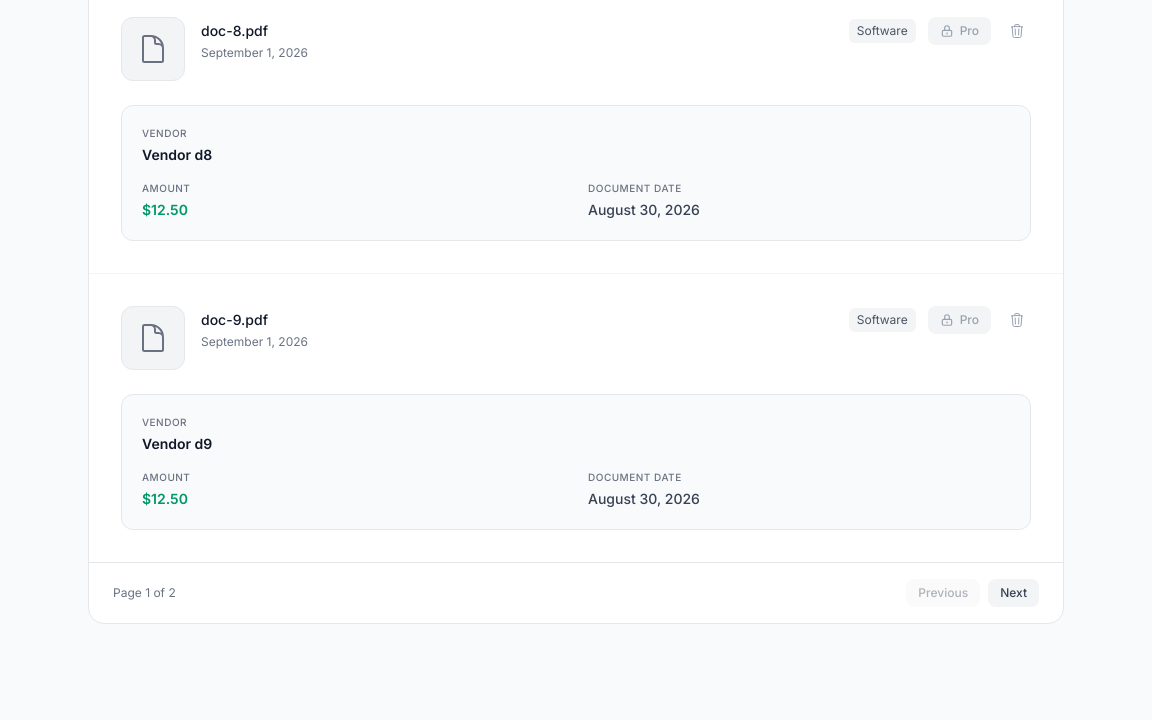
dashboard › paginates completed documents ten at a time
(page scrolled)
Expected: the text "Page 1 of 2" is shown, [113, 585, 176, 601]
Expected: the button "Previous" is disabled, [906, 579, 980, 607]
Step 1. Click the button "Next" → (1014, 593), box [988, 579, 1039, 607]
(page scrolled)
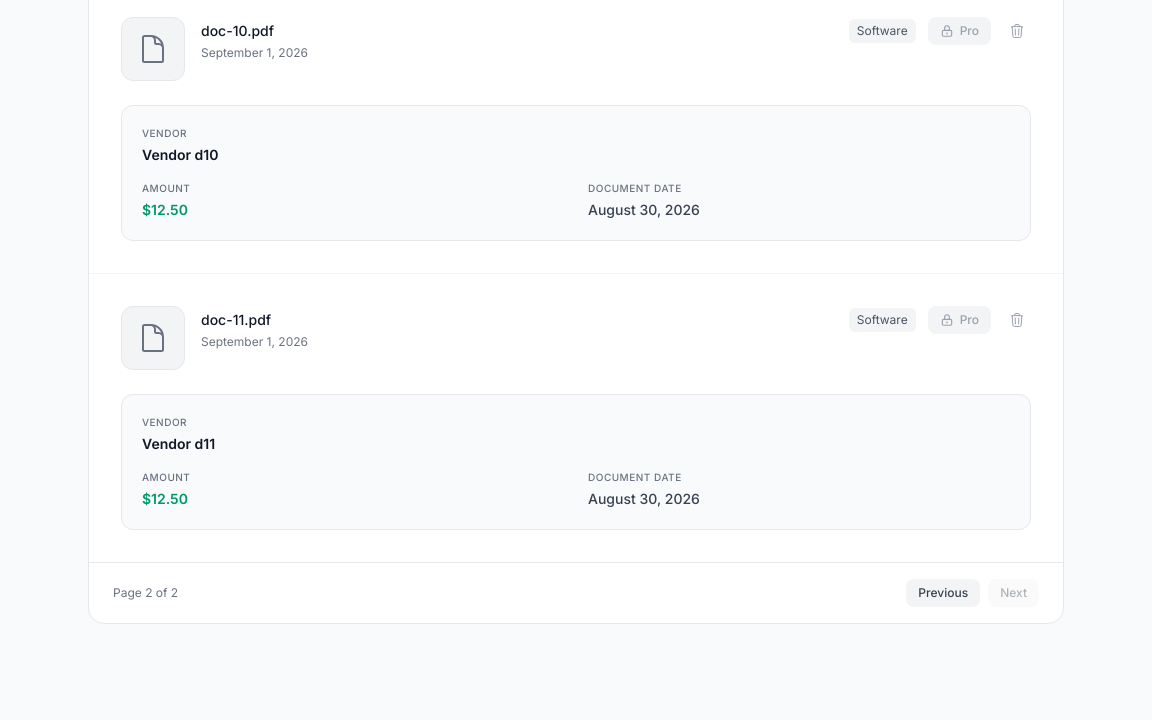
Result: the text "Page 2 of 2" is shown at [113, 585, 178, 601]
Result: the text "doc-11.pdf" is shown at [201, 310, 271, 330]
Result: the button "Next" is disabled at [988, 579, 1039, 607]
